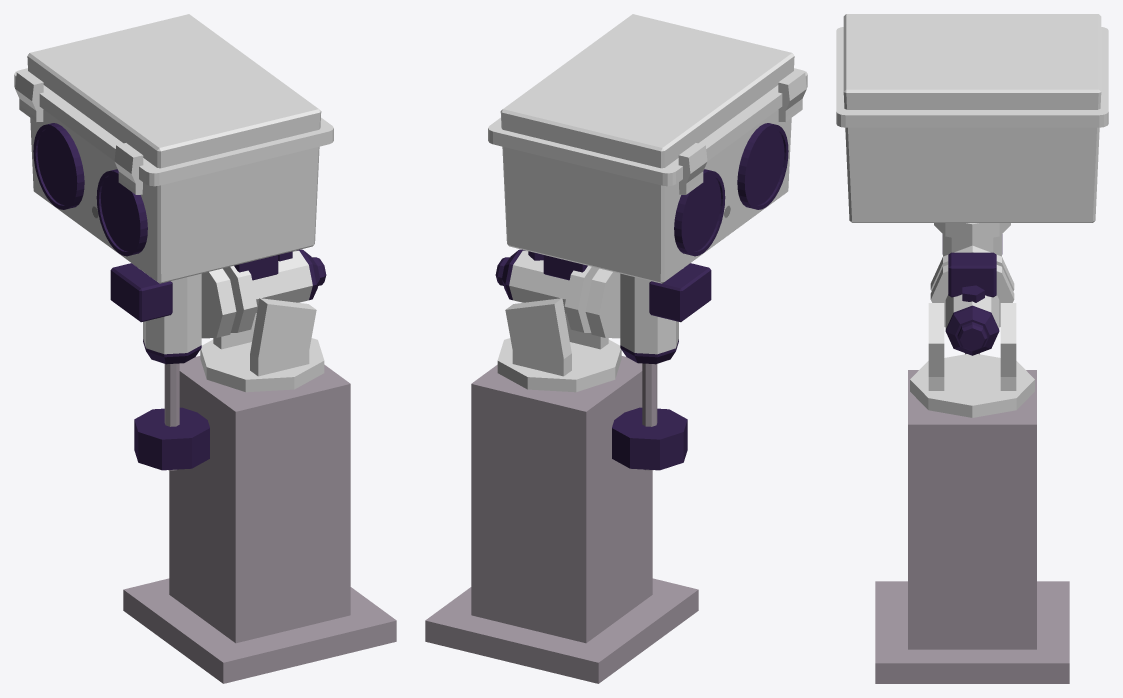
Rendered from unit_exp.glb.
3 renders of one model, left to right at view 1: azimuth 30°, elevation 25°; view 2: azimuth 150°, elevation 25°; view 3: azimuth 270°, elevation 25°, orthographic. The views are drawn at different scales.
Parts seen in each view (by area): view 1: Cube.007, box_textured, Cylinder, Cylinder.003, Cube.009, Cylinder.002, Cylinder.008, Cylinder.011, Cube.010; view 2: Cube.007, box_textured, Cylinder, Cylinder.003, Cube.009, Cylinder.002, Cylinder.008, Cylinder.011, Cube.010; view 3: box_textured, Cube.007, Cylinder.003, Cube.009, Cylinder.002, Cylinder, Cube.004.
Part boxes in pixels (x1,y1,x2,y2): Cube.007: (123,356,396,683); box_textured: (27,14,321,283); Cylinder: (110,263,236,470); Cylinder.003: (200,298,324,392); Cube.009: (14,68,333,186); Cylinder.002: (223,249,326,332); Cylinder.008: (37,129,138,251); Cylinder.011: (33,123,147,256); Cube.010: (15,70,143,194); Cube.007: (425,356,698,683); box_textured: (500,14,794,283); Cylinder: (585,263,711,470); Cylinder.003: (497,298,621,392); Cube.009: (488,68,807,186); Cylinder.002: (495,249,598,332); Cylinder.008: (683,129,784,251); Cylinder.011: (674,123,788,256); Cube.010: (678,70,806,194); box_textured: (843,14,1101,222); Cube.007: (875,370,1069,683); Cylinder.003: (910,303,1034,417); Cube.009: (836,27,1108,127); Cylinder.002: (930,252,1014,355); Cylinder: (930,234,1014,354); Cube.004: (934,223,1010,241).
Bounding box in the file's own units: 0.5801 × 1.15 × 0.5153.
5 materials, 1 textured.
